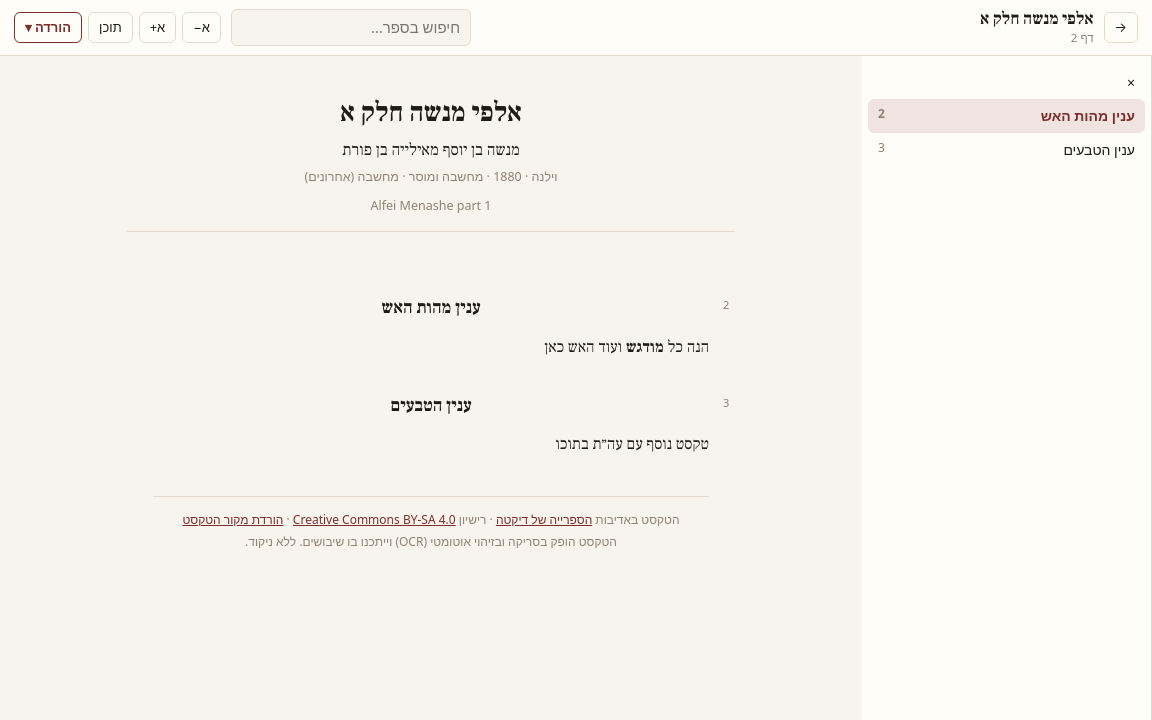
it: searching inside the book › steps between hits and wraps around
The image size is (1152, 720).
Check: the text "הנה כל" is shown, box left=668, top=336, right=709, bottom=356
In the search field with placeholder "חיפוש בספר…": (351, 27) left=231, top=9, right=471, bottom=46, type "האש"
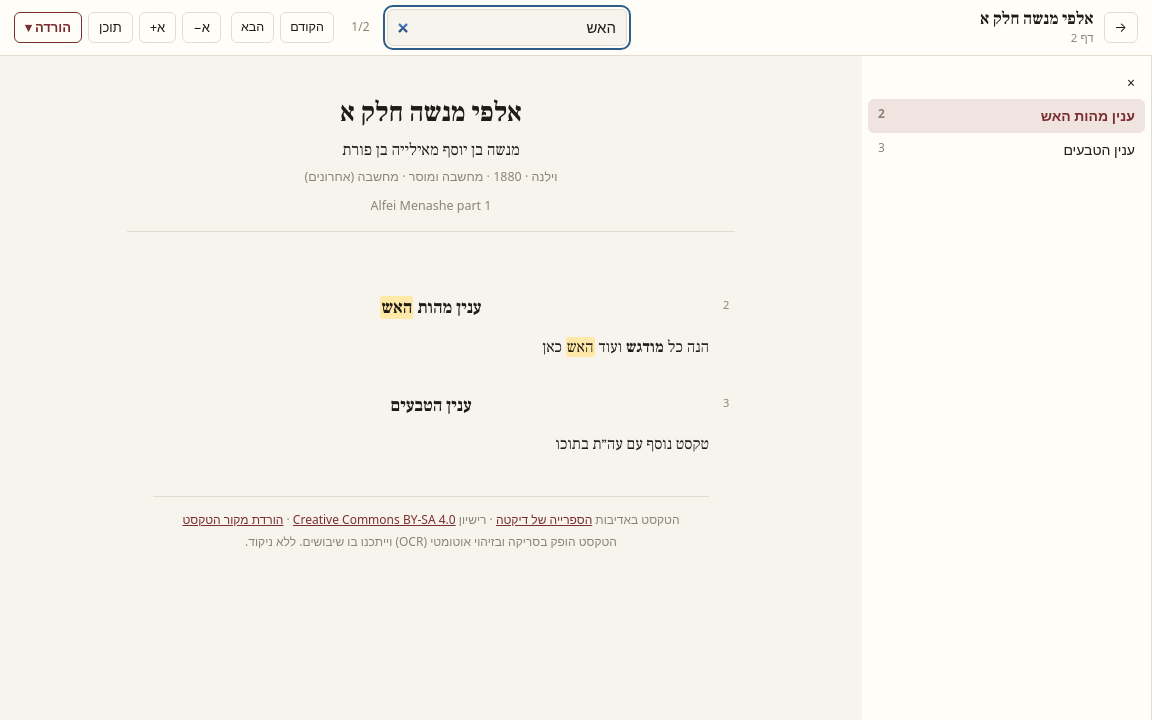
Check: the text "1/2" is shown, box left=351, top=18, right=370, bottom=35
Named, not arrowed: the direction of "forward" is not obvious in RTL.
Click the button "הבא": (253, 27) left=231, top=12, right=274, bottom=43
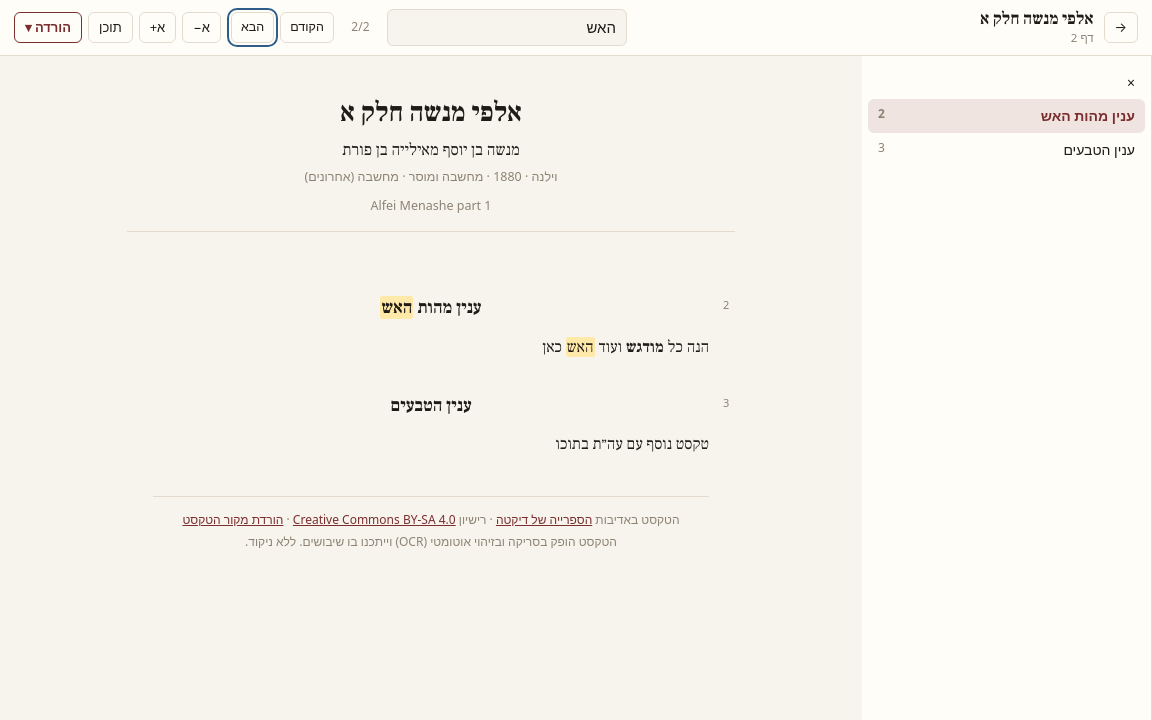
Check: the text "2/2" is shown, box left=351, top=18, right=370, bottom=35
Click the button "הבא": (253, 27) left=231, top=12, right=274, bottom=43
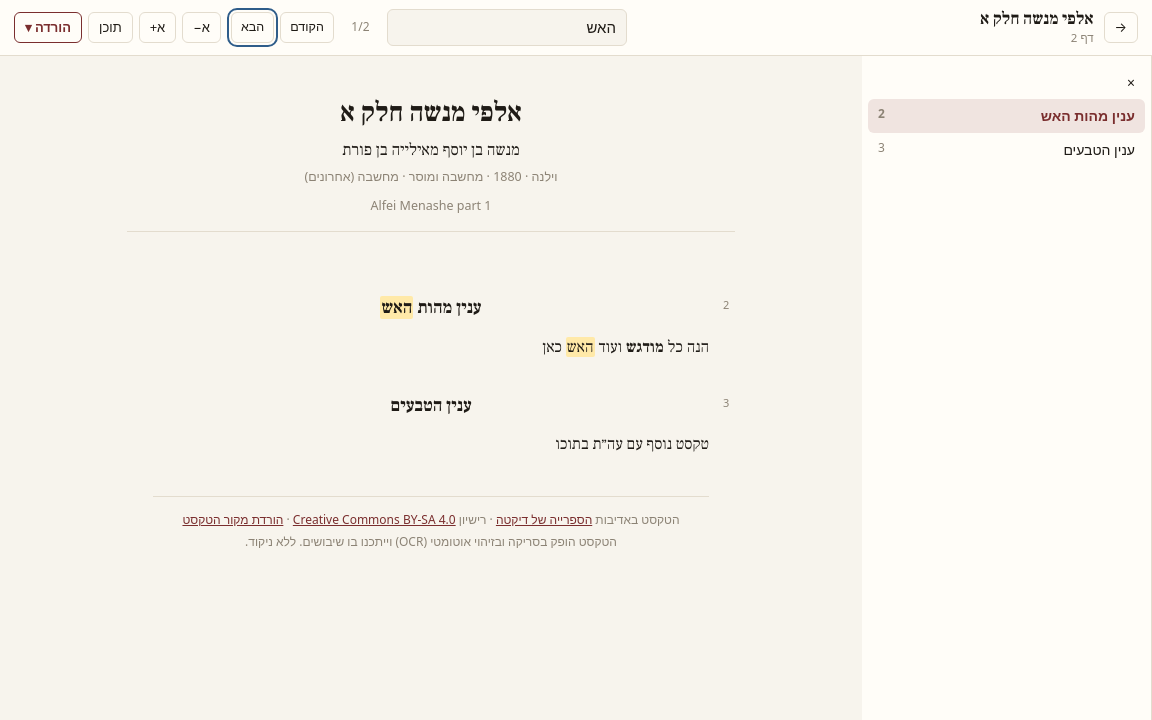
Check: the text "1/2" is shown, box left=351, top=18, right=370, bottom=35
